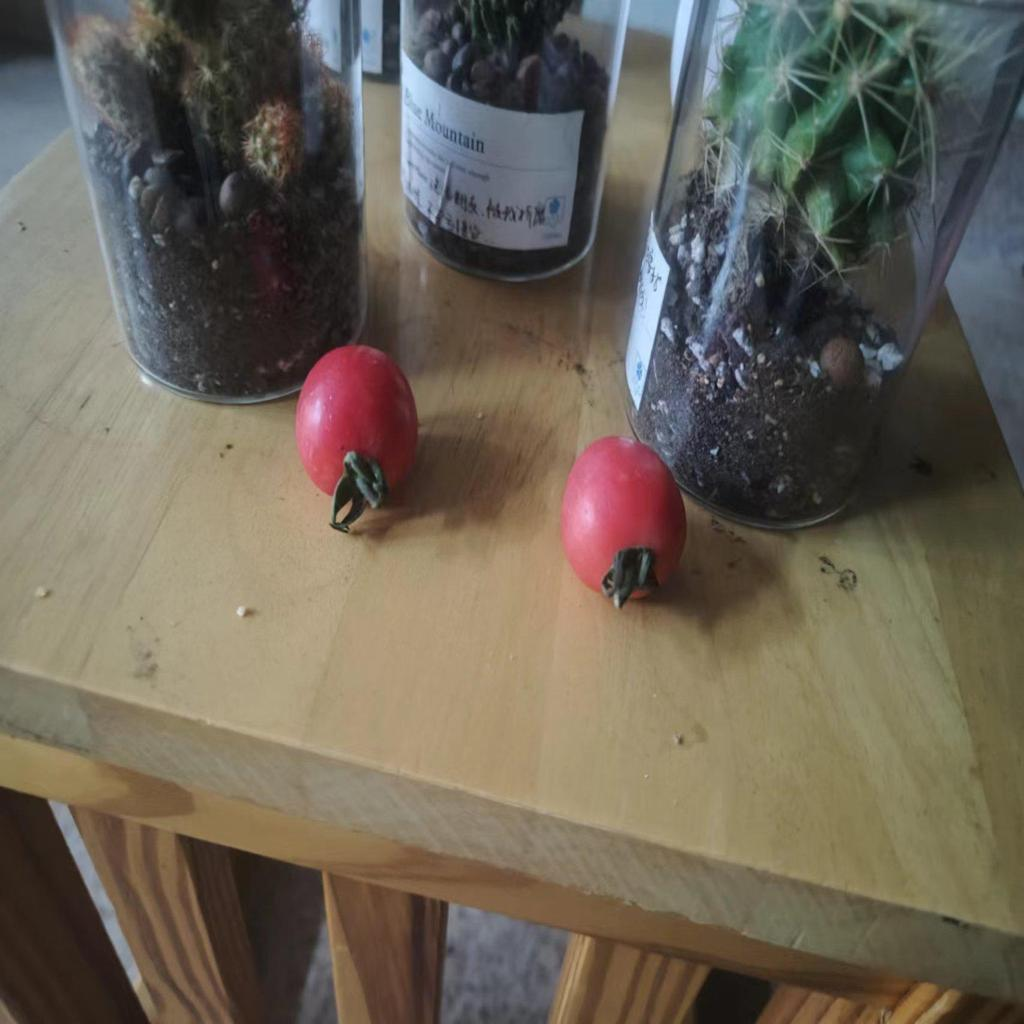tomato: (290, 336, 421, 521), (568, 431, 686, 604)
